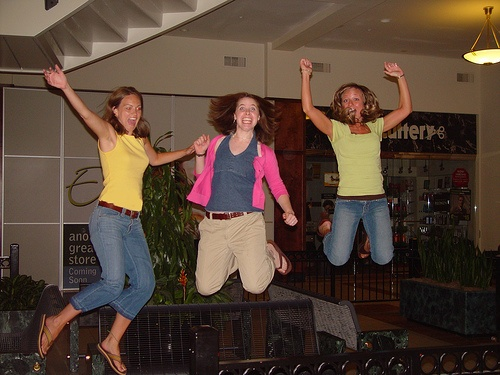head: (336, 82, 370, 127), (112, 87, 144, 134), (231, 91, 263, 138)
person: (25, 61, 203, 375), (298, 57, 412, 264), (184, 93, 295, 296)
